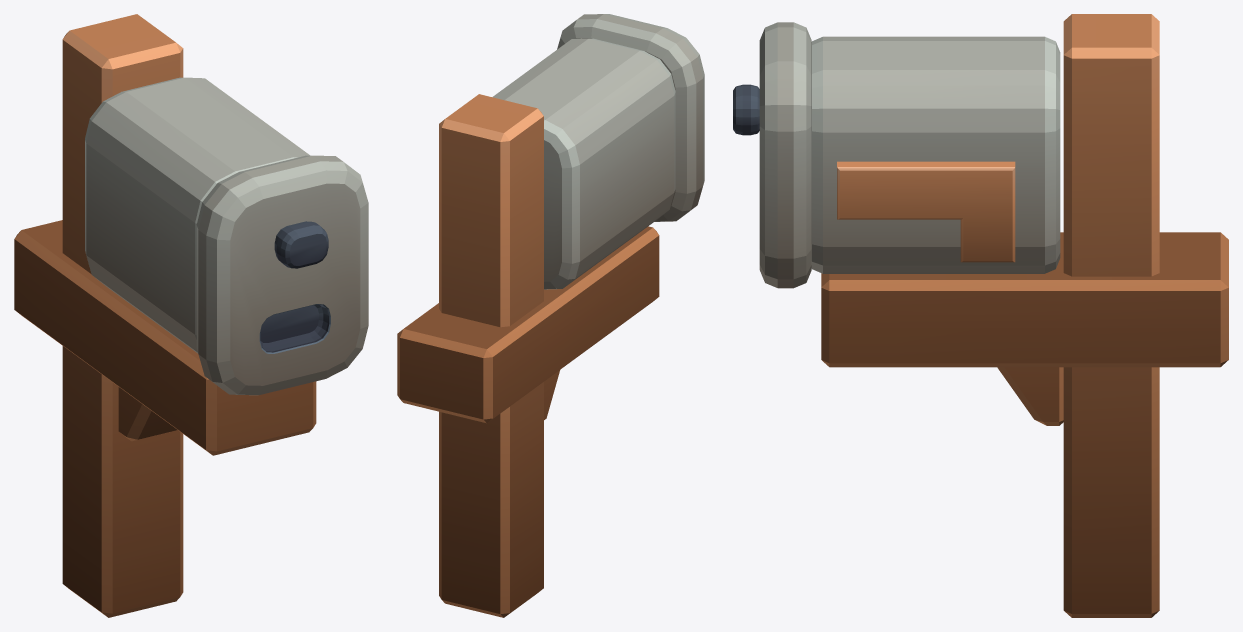
Rendered from mt_prop_mailpost.fbx.
3 views of the same model, side by side, from view 1: azimuth 30°, elevation 25°; view 2: azimuth 150°, elevation 25°; view 3: azimuth 270°, elevation 25° (orthographic). The views are drawn at different scales.
Visible parts, largest first — view 1: prop_mailpost; view 2: prop_mailpost; view 3: prop_mailpost.
Part boxes in pixels (box(x1,y1,x2,y2)): prop_mailpost: box(14, 14, 368, 617); prop_mailpost: box(397, 14, 704, 617); prop_mailpost: box(733, 14, 1228, 617).
Bounding box in the file's own units: 46.21 × 149 × 117.
